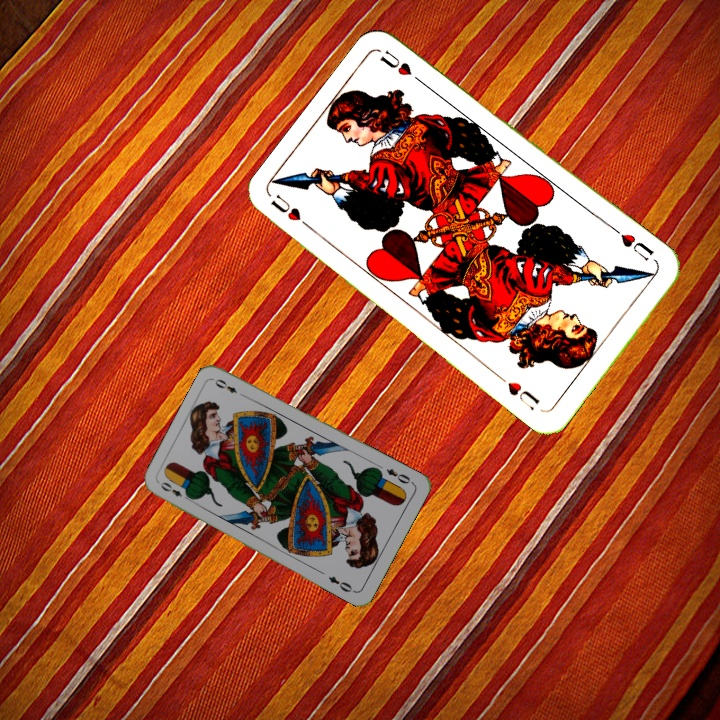EO: (156, 478, 194, 504), (382, 465, 416, 487)
HU: (266, 189, 318, 234), (609, 224, 657, 264)
